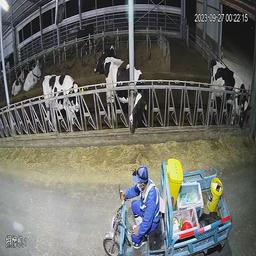cow: (103, 55, 148, 140), (210, 53, 251, 141), (37, 69, 92, 119), (91, 34, 118, 70), (23, 56, 43, 88), (9, 65, 26, 102), (75, 24, 95, 44)
